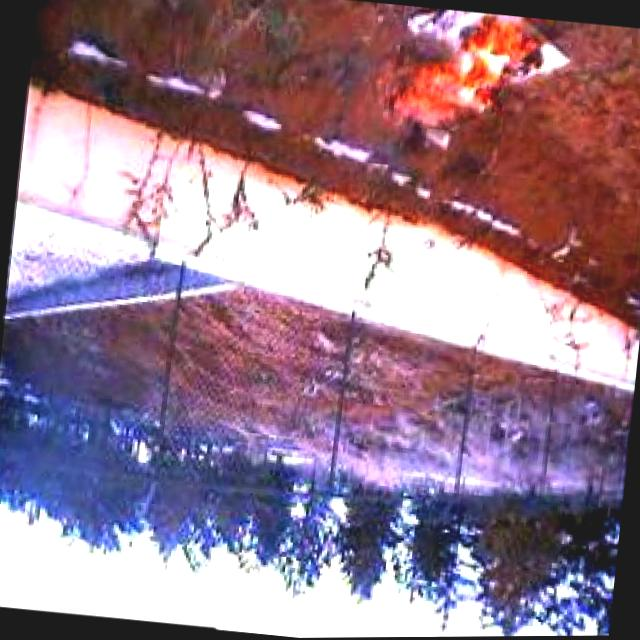Fire: (382, 3, 548, 144)
